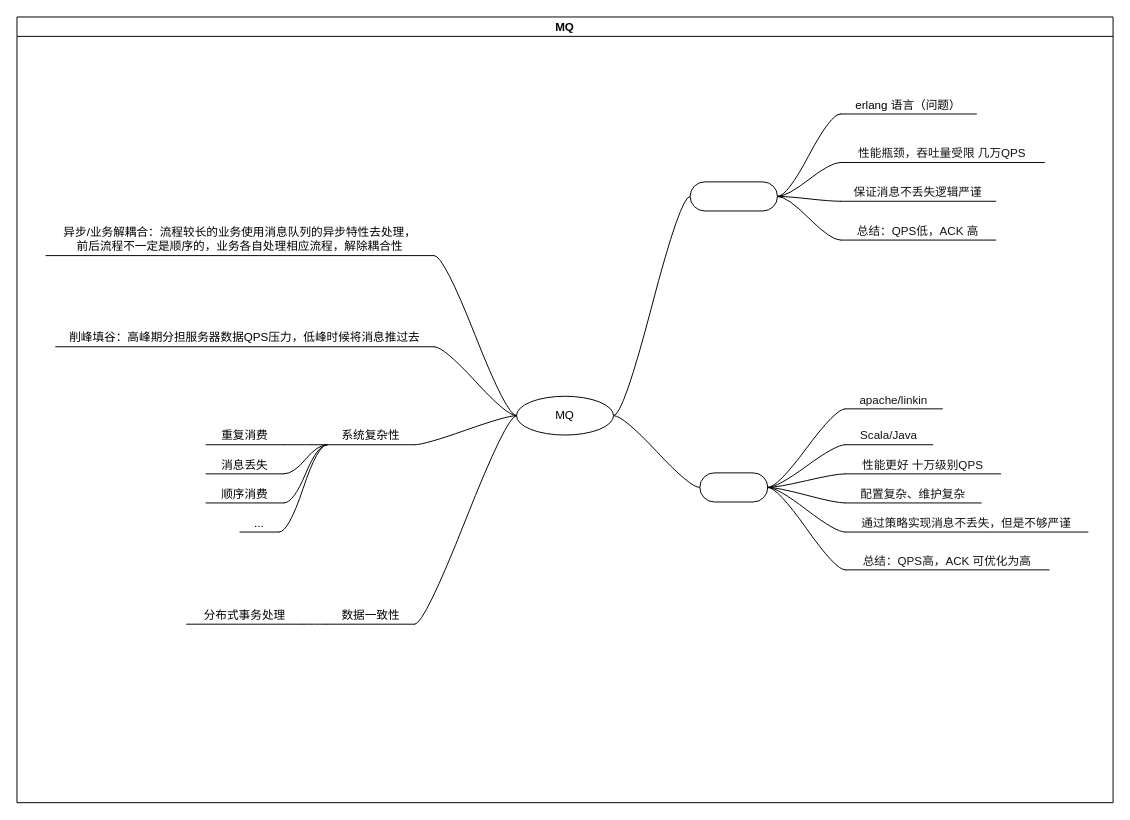
This 1130x820 diagram has some shape labels left out. The shapes that lost their labels are listed below. From the top down, each one's centre as x and y in pixels, then its label:
the point at 733,196: RabbitMQ
the point at 733,487: Kafka
